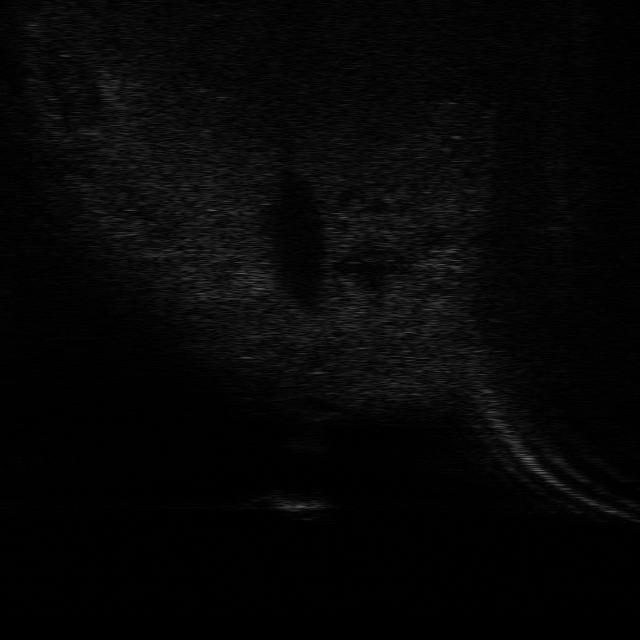cube: (248, 488, 330, 523)
